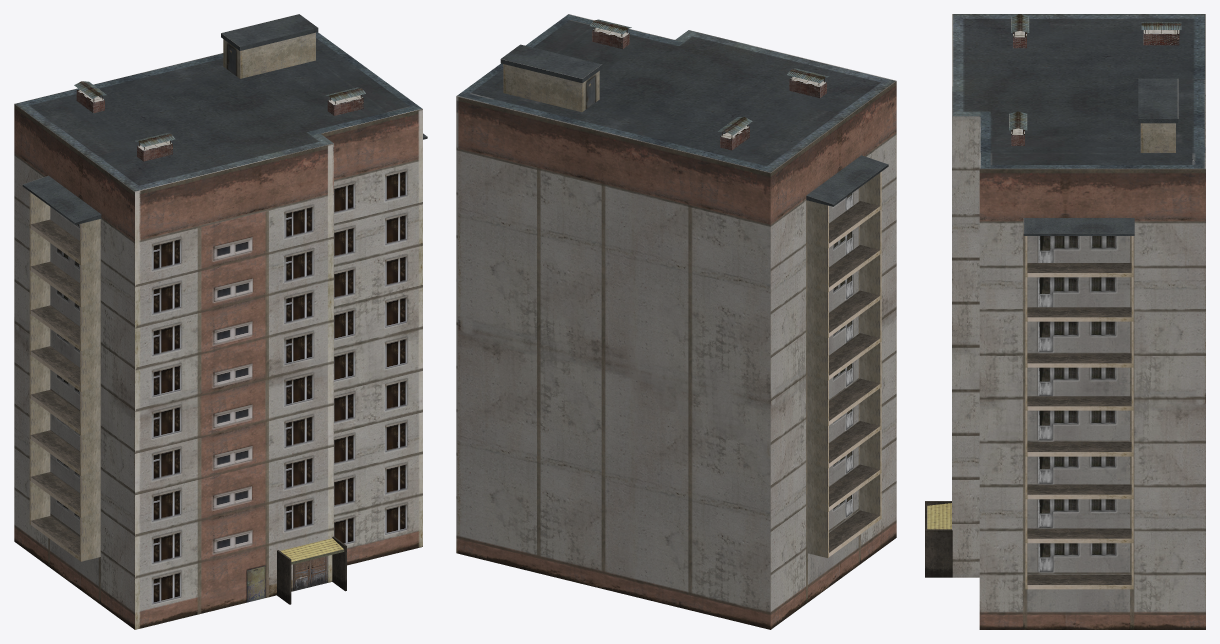
The model's file is building3.obj.
3 renders of one model, left to right at view 1: azimuth 30°, elevation 25°; view 2: azimuth 150°, elevation 25°; view 3: azimuth 270°, elevation 25°, orthographic. The views are drawn at different scales.
Parts seen in each view (by area): view 1: building3; view 2: building3; view 3: building3.
Boxes of the visible parts, x1,y1,x2,y2 form: building3: [14, 14, 427, 629]; building3: [456, 14, 896, 629]; building3: [925, 14, 1205, 629].
Size of the model in its own units: 50.5 by 64.49 by 33.06.
Materials: 1 (1 with a texture image).
